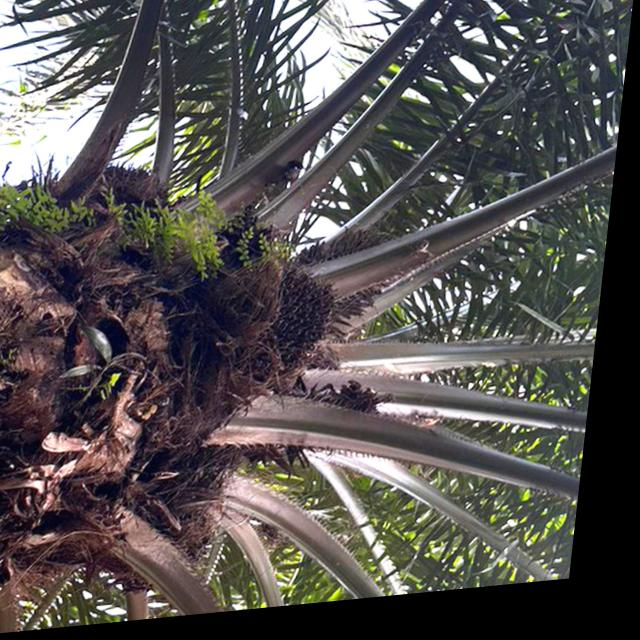almost: (251, 261, 358, 390)
